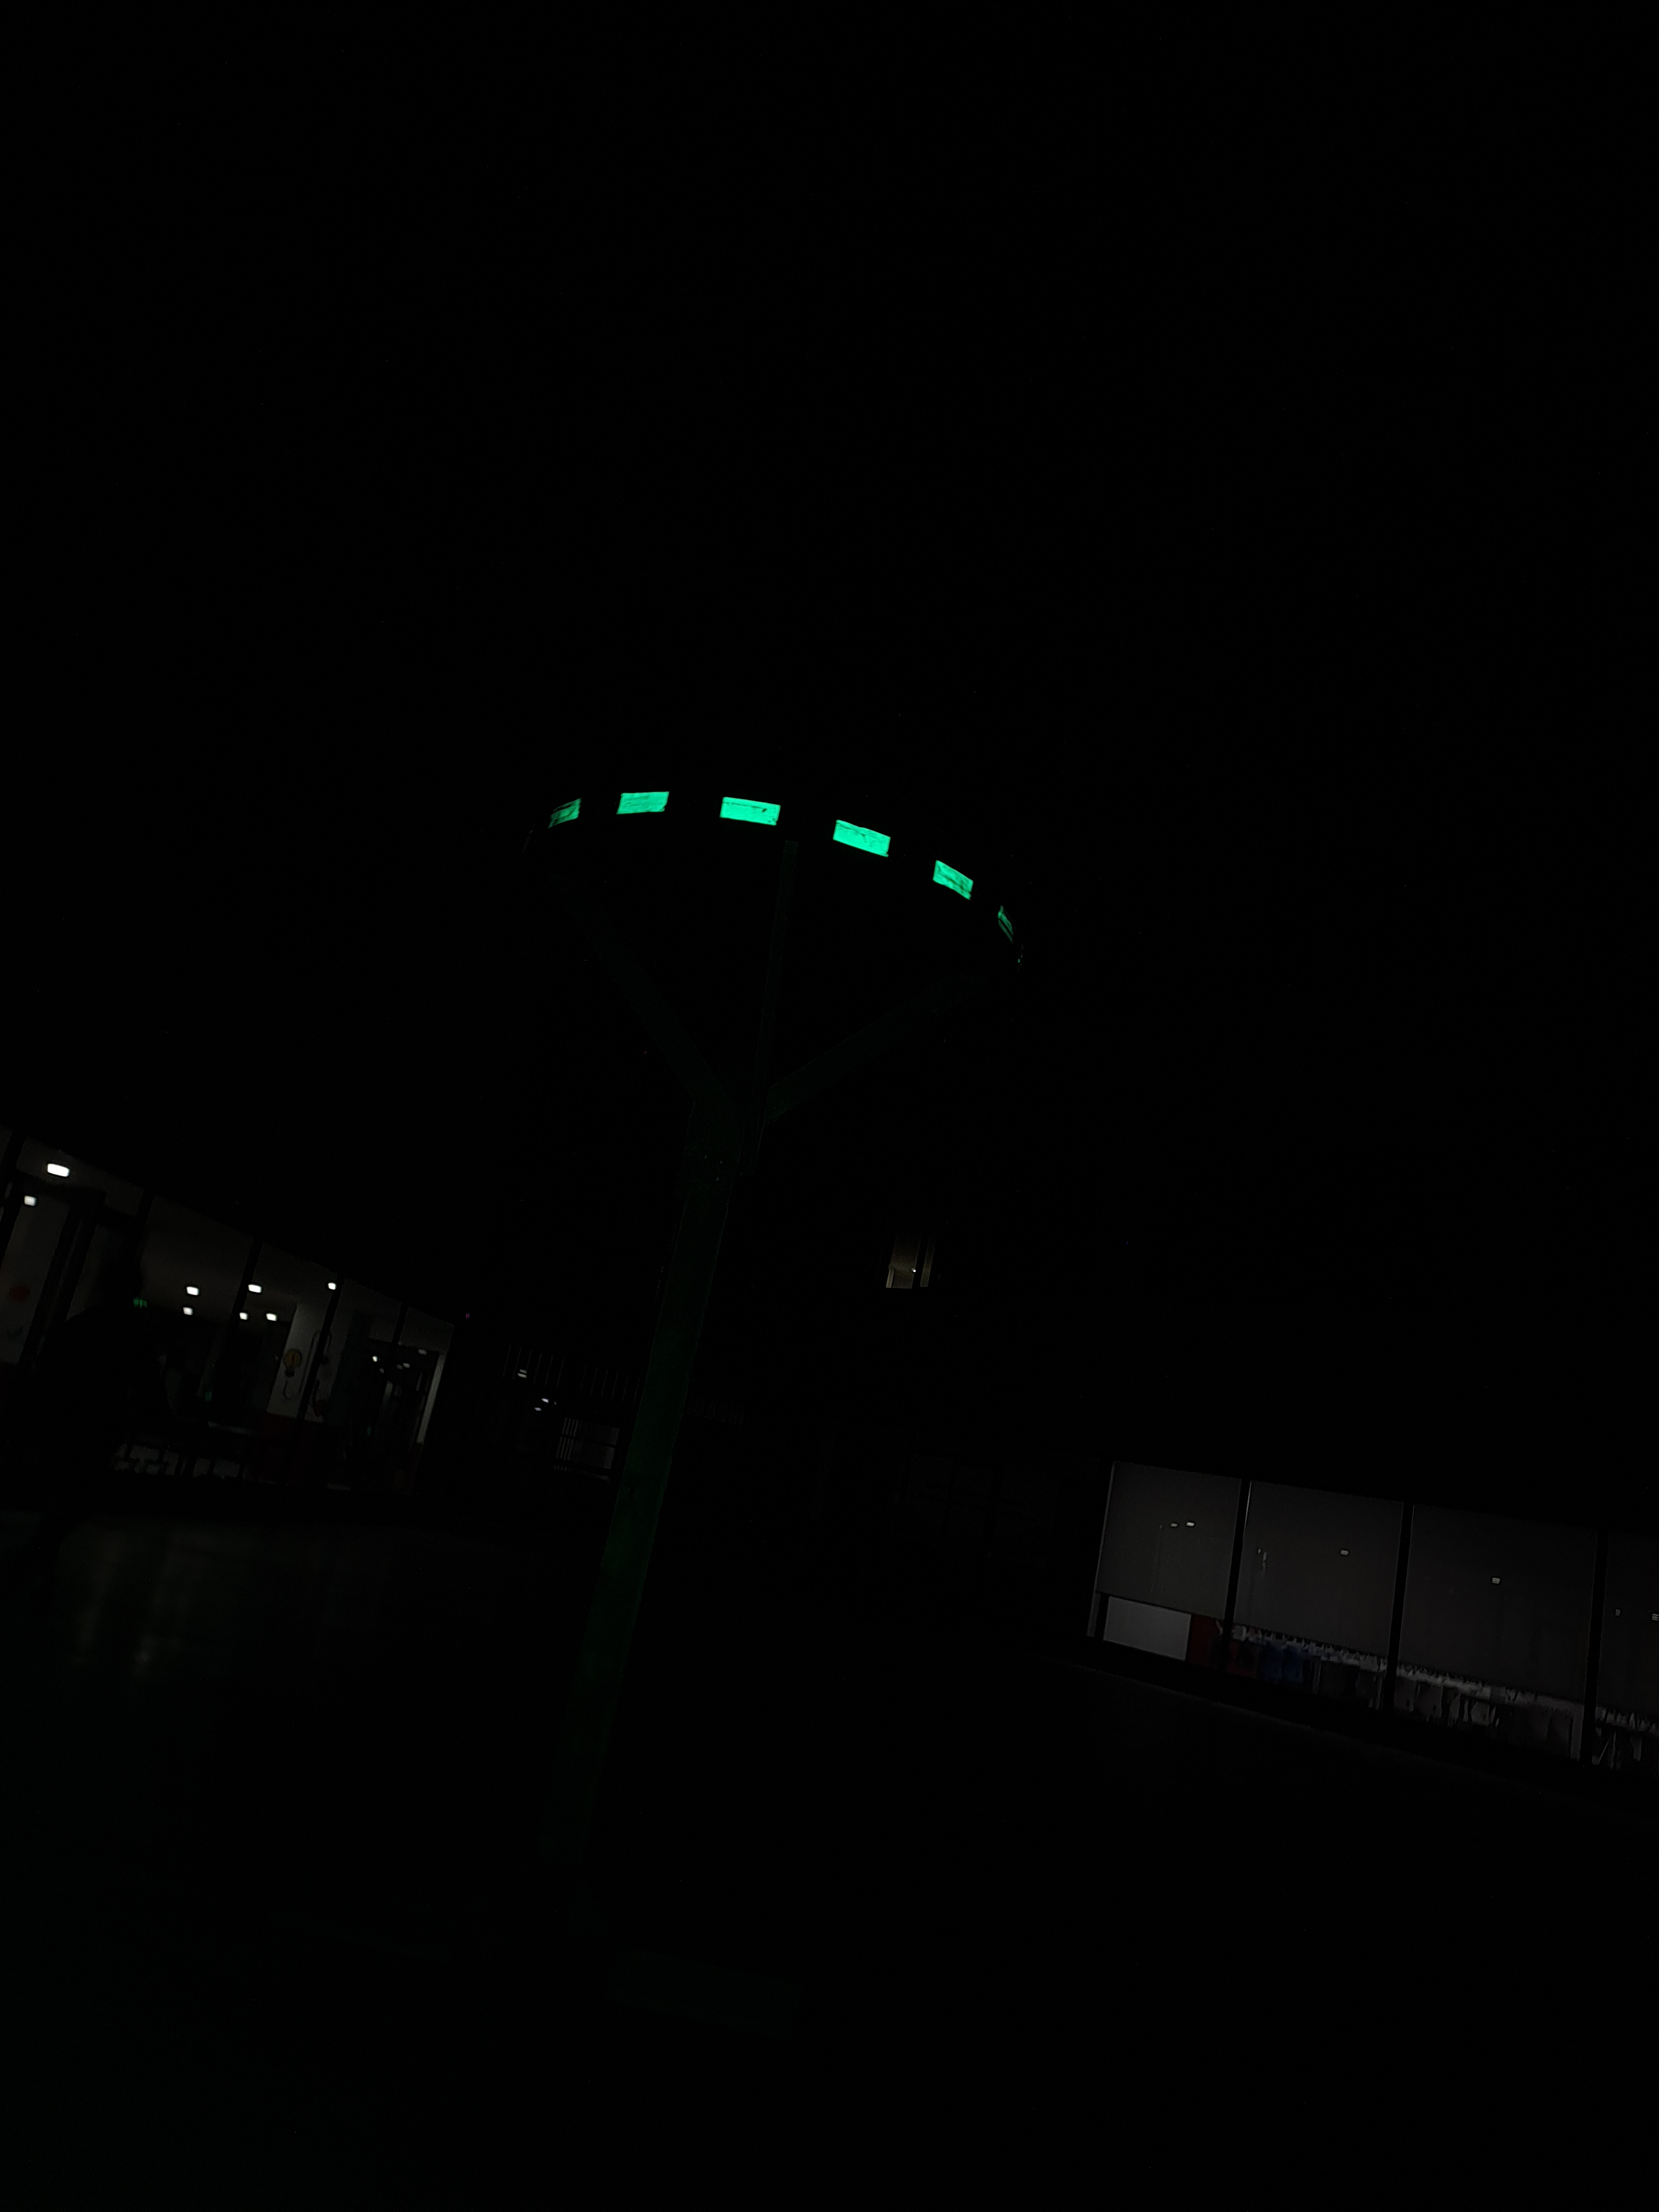hoop: (549, 773, 979, 927)
